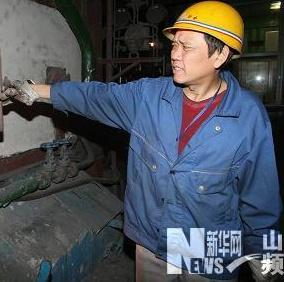gloves: (0, 76, 38, 107), (247, 258, 279, 282)
hard-hat: (162, 0, 245, 55)
vest: (49, 70, 284, 280)
